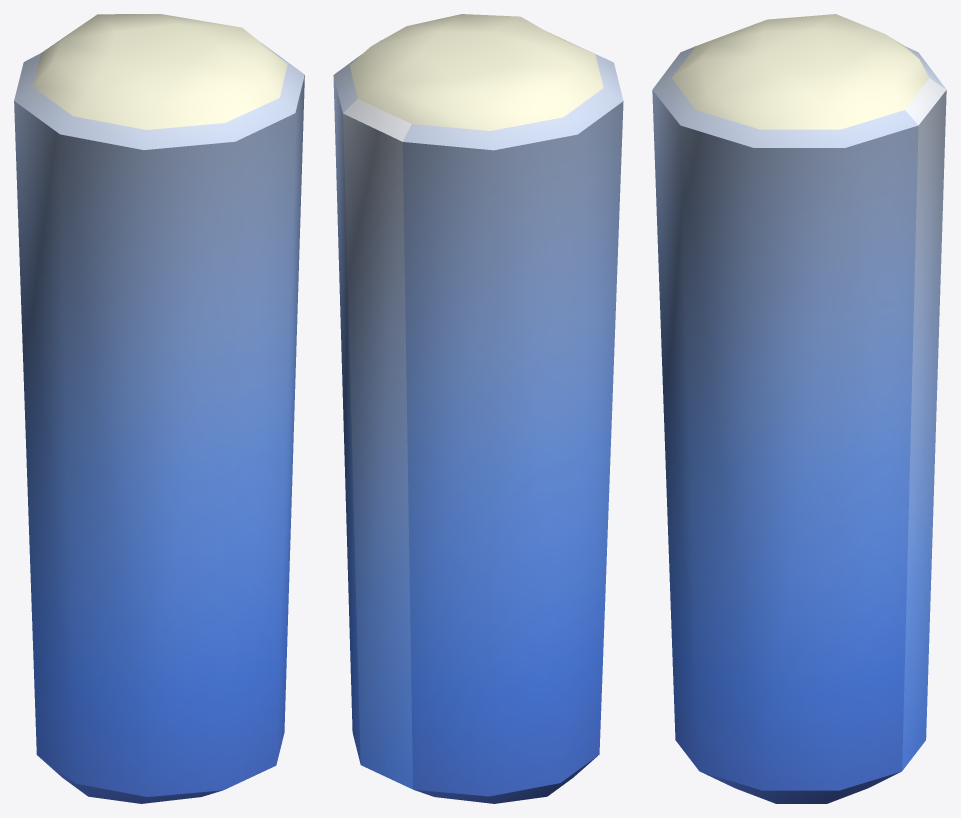
File: m_StangeBeer01.fbx
3 renders of one model, left to right at view 1: azimuth 30°, elevation 25°; view 2: azimuth 150°, elevation 25°; view 3: azimuth 270°, elevation 25°, orthographic.
Visible parts, largest first — view 1: m_StangeBeer01; view 2: m_StangeBeer01; view 3: m_StangeBeer01.
Part boxes in pixels (x1=…): m_StangeBeer01: x1=14, y1=14, x2=304, y2=803; m_StangeBeer01: x1=333, y1=14, x2=623, y2=803; m_StangeBeer01: x1=652, y1=14, x2=946, y2=803.
Bounding box in the file's own units: 11.11 × 31.18 × 11.68.
